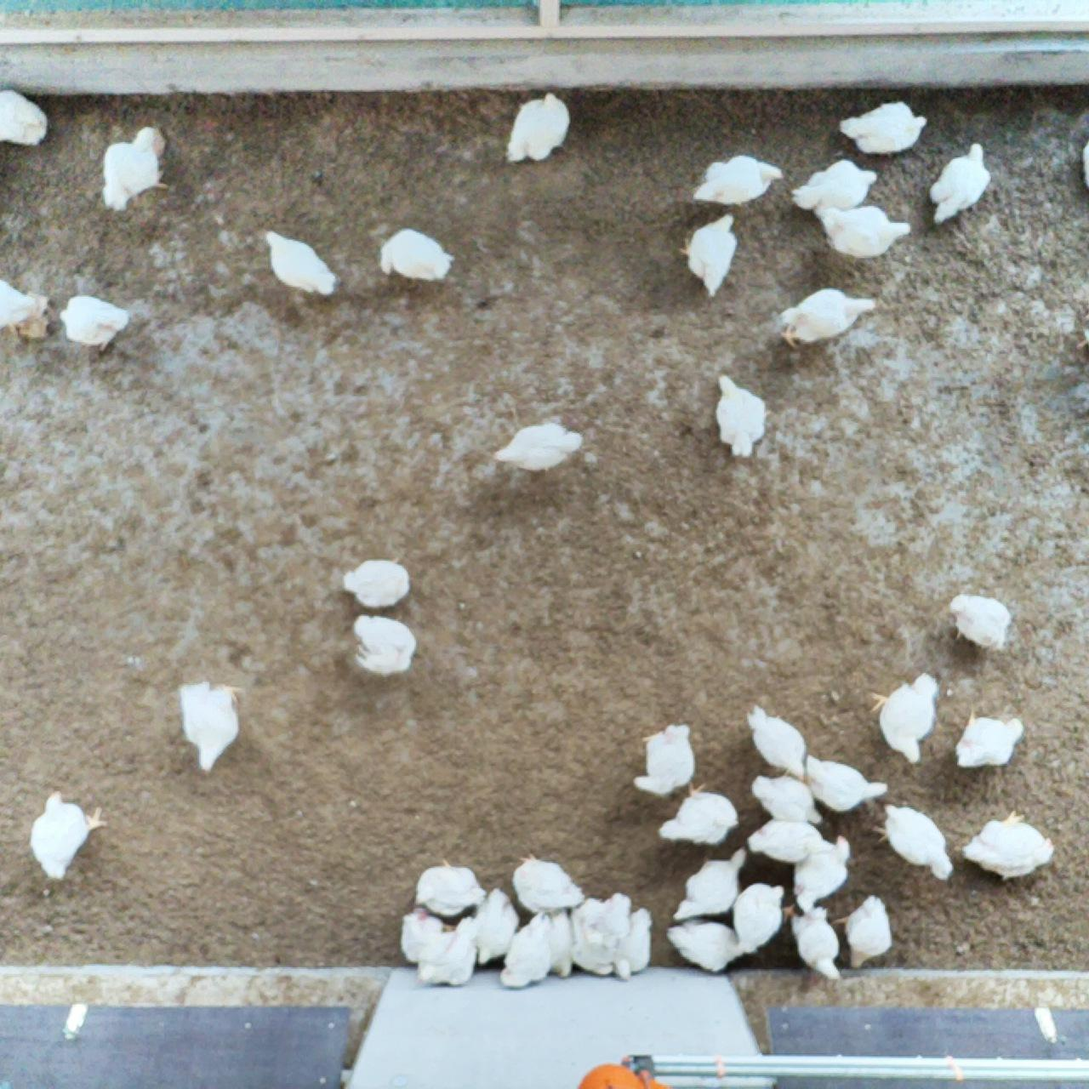chicken: (26, 787, 109, 885), (92, 121, 176, 214), (868, 800, 956, 888), (175, 673, 247, 780), (960, 807, 1058, 885), (867, 667, 944, 766), (774, 285, 886, 353), (671, 843, 751, 927), (677, 211, 746, 304), (655, 777, 741, 851), (257, 225, 343, 299), (925, 140, 994, 231), (487, 417, 587, 478), (812, 202, 914, 261), (835, 96, 929, 159), (502, 88, 573, 170), (629, 718, 700, 798), (741, 699, 809, 782), (779, 902, 847, 985), (691, 151, 788, 209), (789, 832, 855, 917), (802, 751, 889, 815), (710, 373, 774, 460), (664, 914, 752, 977), (829, 892, 898, 971), (373, 224, 458, 288), (510, 848, 587, 918), (790, 158, 881, 217), (345, 610, 421, 680), (414, 914, 483, 990), (54, 289, 133, 354), (744, 815, 841, 867), (945, 589, 1016, 660), (953, 706, 1027, 773), (411, 855, 488, 919), (498, 907, 555, 991), (747, 768, 824, 830), (730, 881, 788, 961), (470, 885, 523, 968), (340, 554, 412, 611), (611, 904, 657, 984), (399, 906, 457, 968), (0, 86, 52, 151), (570, 906, 616, 977), (593, 887, 633, 950), (0, 276, 40, 337), (548, 908, 577, 982)
